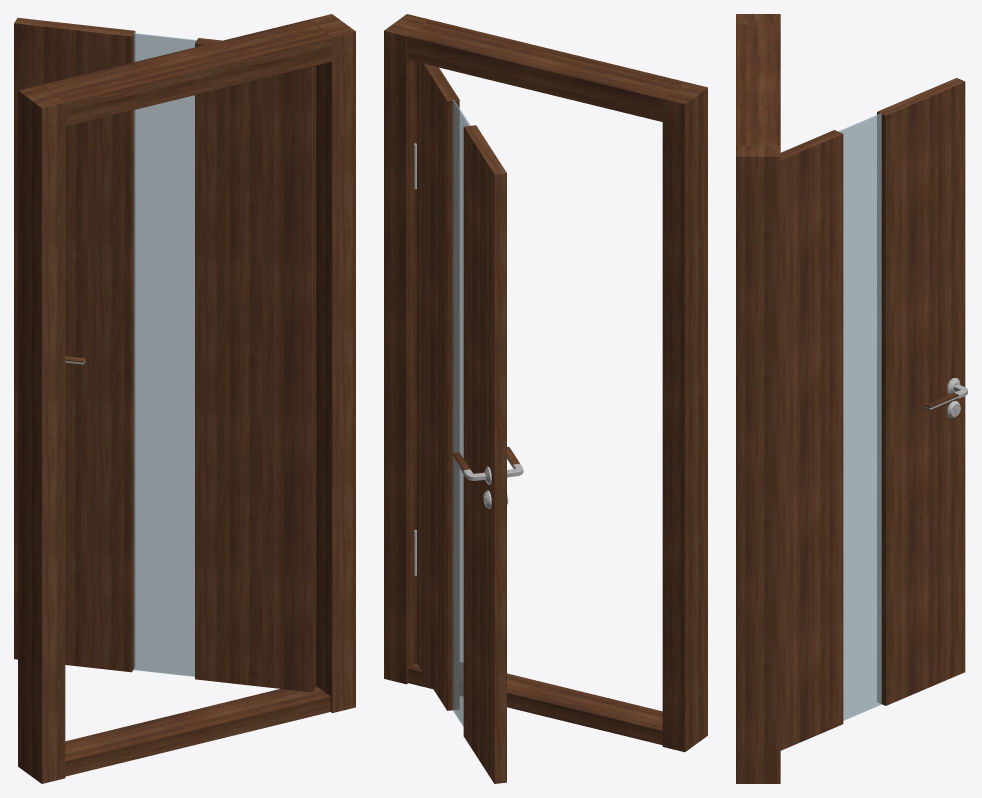
3 views of the same model, side by side, from view 1: azimuth 30°, elevation 25°; view 2: azimuth 150°, elevation 25°; view 3: azimuth 270°, elevation 25° (orthographic). The views are drawn at different scales.
Visible parts, largest first — view 1: Node; view 2: Node; view 3: Node.
Boxes of the visible parts, <box> form: Node: <box>14,14,355,783</box>; Node: <box>384,14,707,783</box>; Node: <box>736,14,967,783</box>.
Bounding box in the file's own units: 1.06 × 2.18 × 0.73.
Materials: 3 (1 with a texture image).
